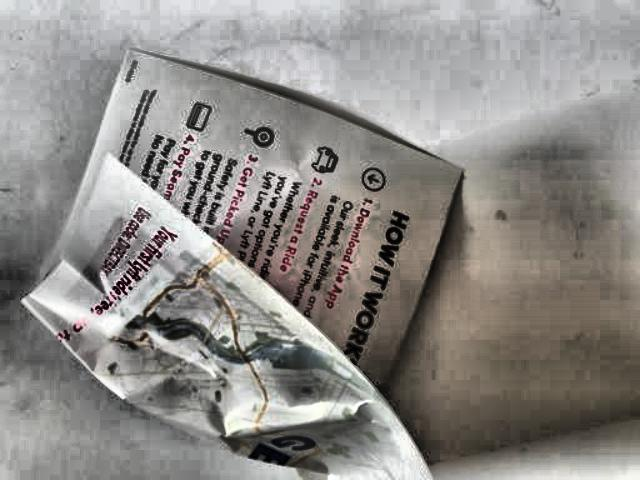Paper: (10, 38, 633, 480)
